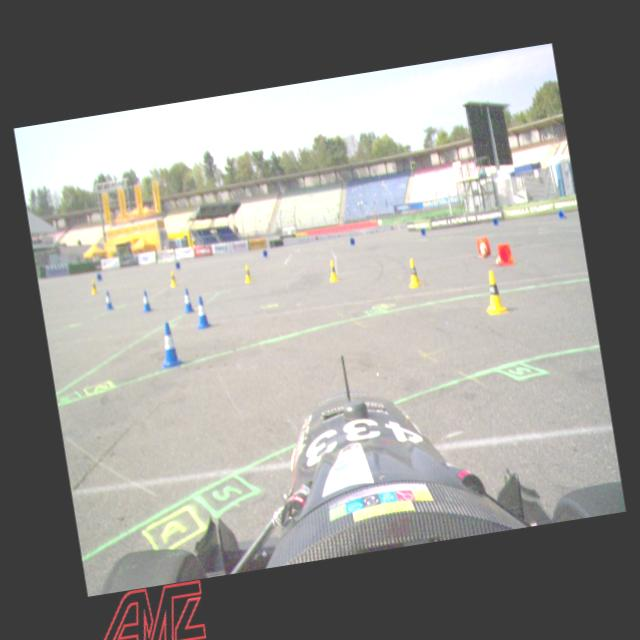blue_cone: (154, 320, 183, 370), (192, 294, 212, 330), (179, 286, 196, 314), (138, 288, 154, 314), (102, 289, 114, 313), (558, 208, 568, 220)
orange_cone: (492, 242, 516, 270), (476, 236, 492, 260)
yellow_cone: (479, 268, 510, 318), (404, 256, 424, 290), (326, 258, 341, 284), (242, 262, 254, 284), (89, 278, 99, 296), (168, 270, 178, 288)
